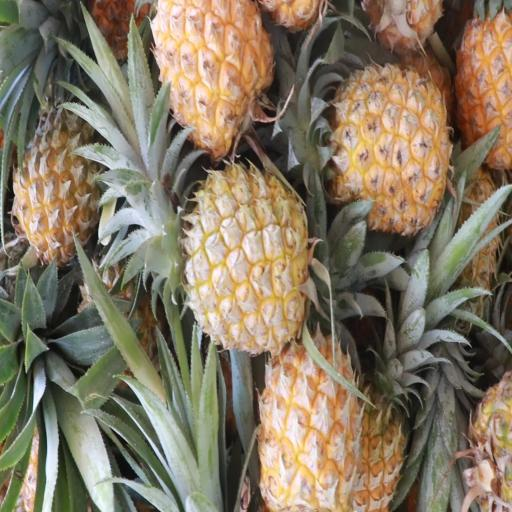Pineapple - v8 v1: (158, 149, 296, 352), (294, 52, 439, 225), (256, 295, 366, 512), (152, 0, 278, 160), (343, 272, 419, 512), (12, 91, 96, 256)
